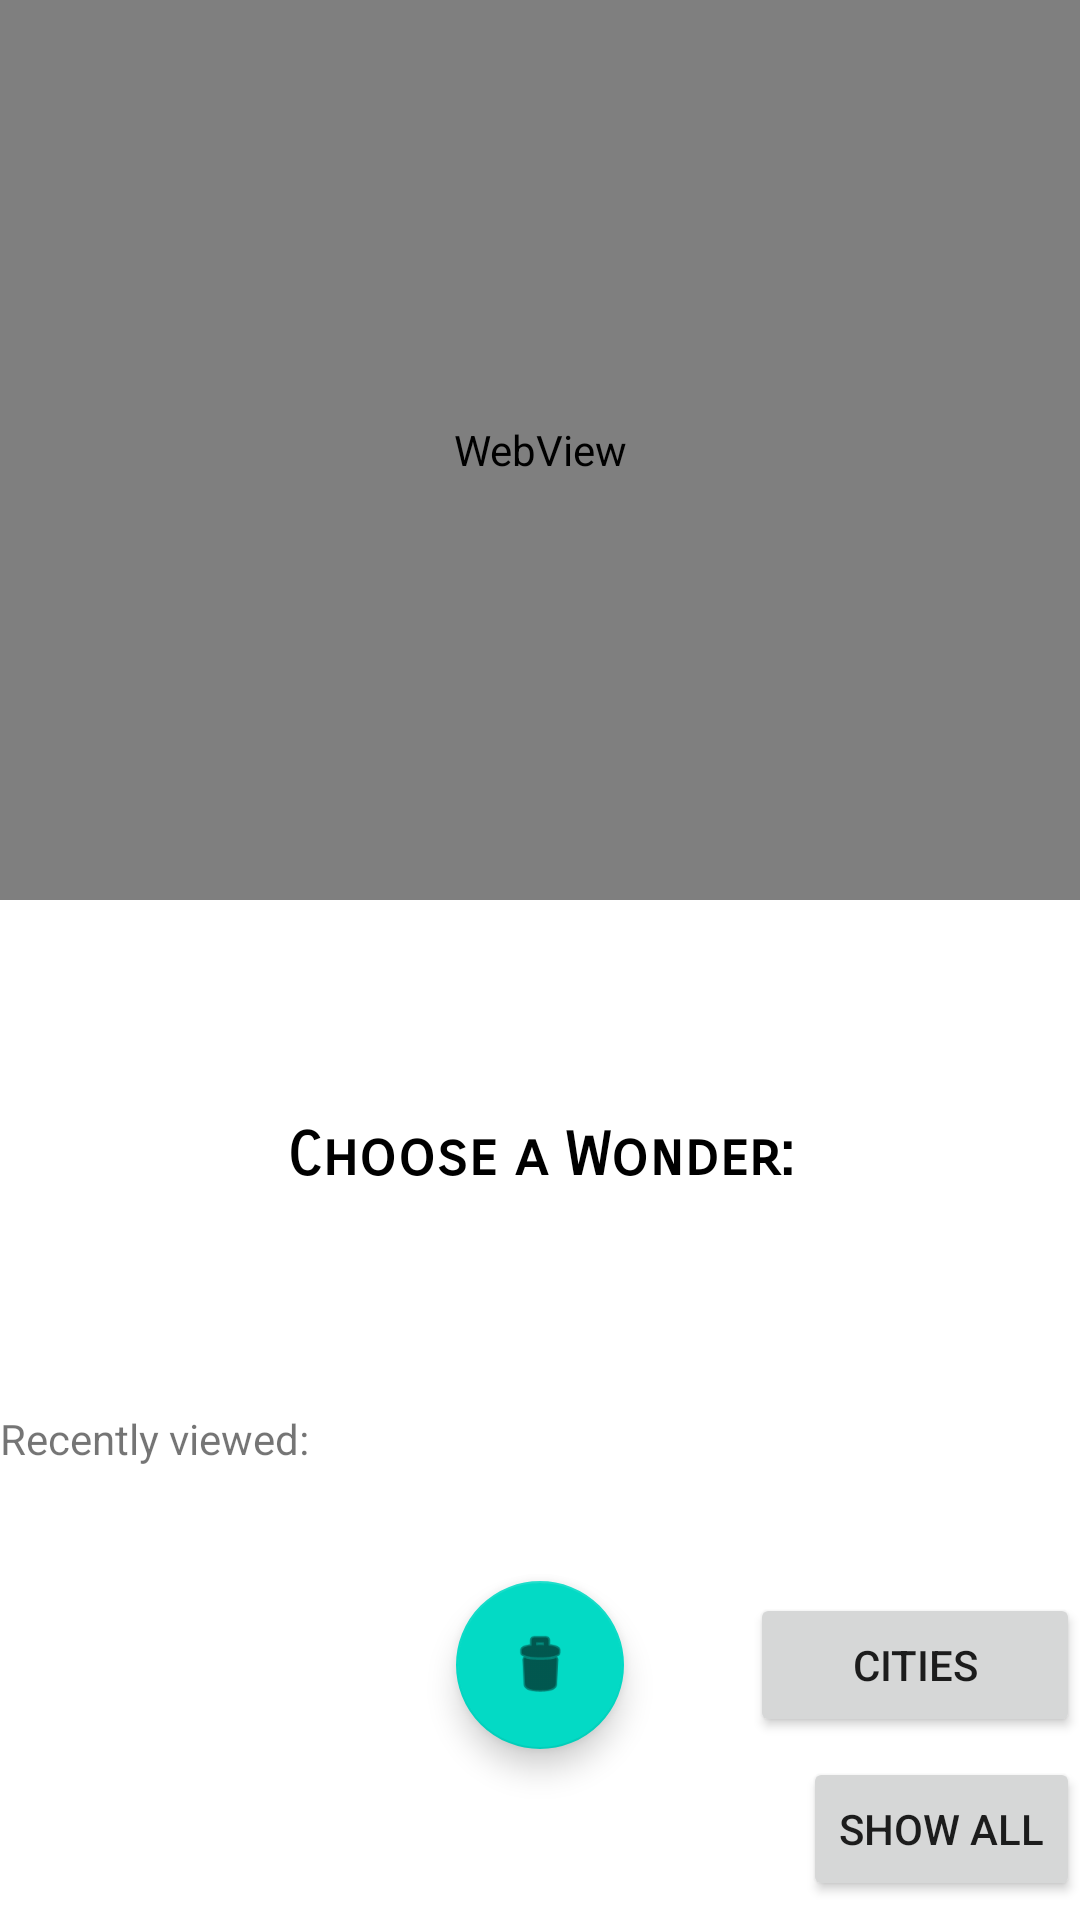

Screen size 1080 x 1920. Icon name, then its box in pixels as bbox(x1, y1, x2, y2):
delete: bbox(456, 1581, 624, 1749)
